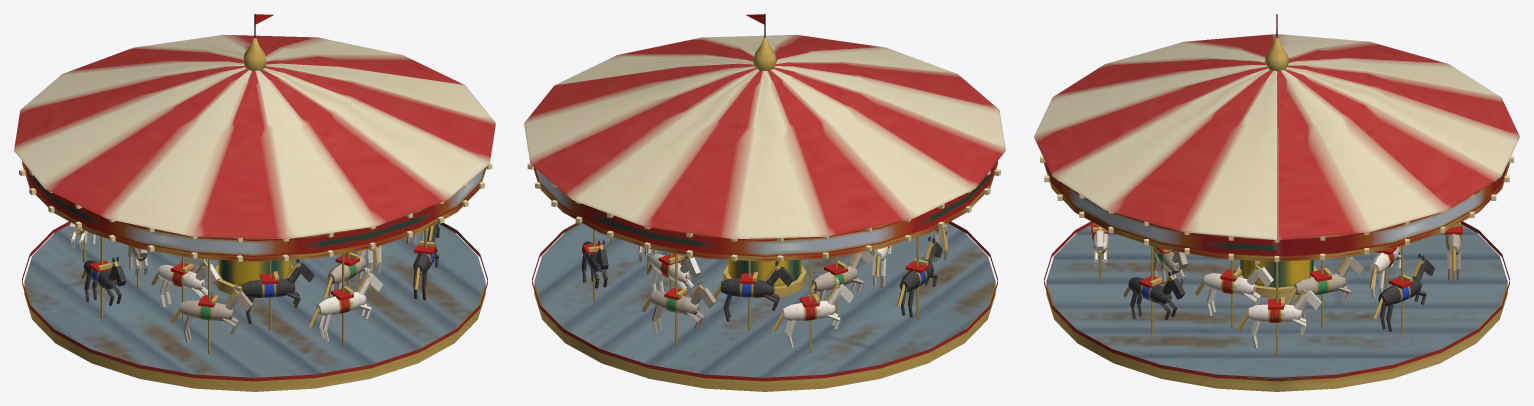
The model's file is carousel.obj.
3 renders of one model, left to right at view 1: azimuth 30°, elevation 25°; view 2: azimuth 150°, elevation 25°; view 3: azimuth 270°, elevation 25°, orthographic.
Parts seen in each view (by area): view 1: carousel_canopy, carousel, carousel_horse_6, carousel_horse_7, carousel_horse_14, carousel_centre, carousel_horse_13, carousel_horse_5, carousel_horse_8, carousel_horse_15, carousel_bulbs, carousel_horse_12; view 2: carousel_canopy, carousel, carousel_horse_4, carousel_horse_3, carousel_horse_11, carousel_centre, carousel_horse_5, carousel_horse_12, carousel_horse_10, carousel_horse_2, carousel_bulbs, carousel_horse_13; view 3: carousel_canopy, carousel, carousel_horse_1, carousel_horse_16, carousel_horse_8, carousel_centre, carousel_horse_2, carousel_horse_9, carousel_bulbs, carousel_horse_15, carousel_horse_10, carousel_horse_3 (+1 smaller).
Boxes of the visible parts, x1,y1,x2,y2 form: carousel_canopy: [14, 14, 495, 261]; carousel: [22, 221, 487, 391]; carousel_horse_6: [170, 259, 252, 353]; carousel_horse_7: [309, 253, 382, 346]; carousel_horse_14: [239, 259, 314, 330]; carousel_centre: [215, 259, 296, 298]; carousel_horse_13: [151, 256, 219, 320]; carousel_horse_5: [81, 236, 126, 318]; carousel_horse_8: [413, 223, 439, 300]; carousel_horse_15: [323, 247, 376, 311]; carousel_bulbs: [19, 148, 492, 261]; carousel_horse_12: [128, 245, 147, 287]; carousel_canopy: [524, 14, 1005, 261]; carousel: [532, 221, 997, 391]; carousel_horse_4: [772, 259, 853, 353]; carousel_horse_3: [642, 253, 716, 346]; carousel_horse_11: [713, 261, 793, 330]; carousel_centre: [723, 259, 806, 298]; carousel_horse_5: [897, 236, 942, 318]; carousel_horse_12: [808, 251, 873, 313]; carousel_horse_10: [646, 252, 700, 311]; carousel_horse_2: [581, 229, 608, 300]; carousel_bulbs: [527, 148, 1000, 261]; carousel_horse_13: [872, 245, 891, 287]; carousel_canopy: [1034, 14, 1519, 261]; carousel: [1044, 221, 1509, 391]; carousel_horse_1: [1237, 262, 1321, 356]; carousel_horse_16: [1195, 260, 1273, 327]; carousel_horse_8: [1123, 245, 1185, 334]; carousel_centre: [1236, 259, 1317, 298]; carousel_horse_2: [1373, 245, 1434, 334]; carousel_horse_9: [1286, 256, 1363, 327]; carousel_bulbs: [1040, 156, 1513, 261]; carousel_horse_15: [1153, 246, 1187, 286]; carousel_horse_10: [1369, 247, 1400, 298]; carousel_horse_3: [1444, 222, 1462, 281].
Bounding box in the file's own units: 9.9 × 6.3 × 9.9.
Materials: 1 (1 with a texture image).
